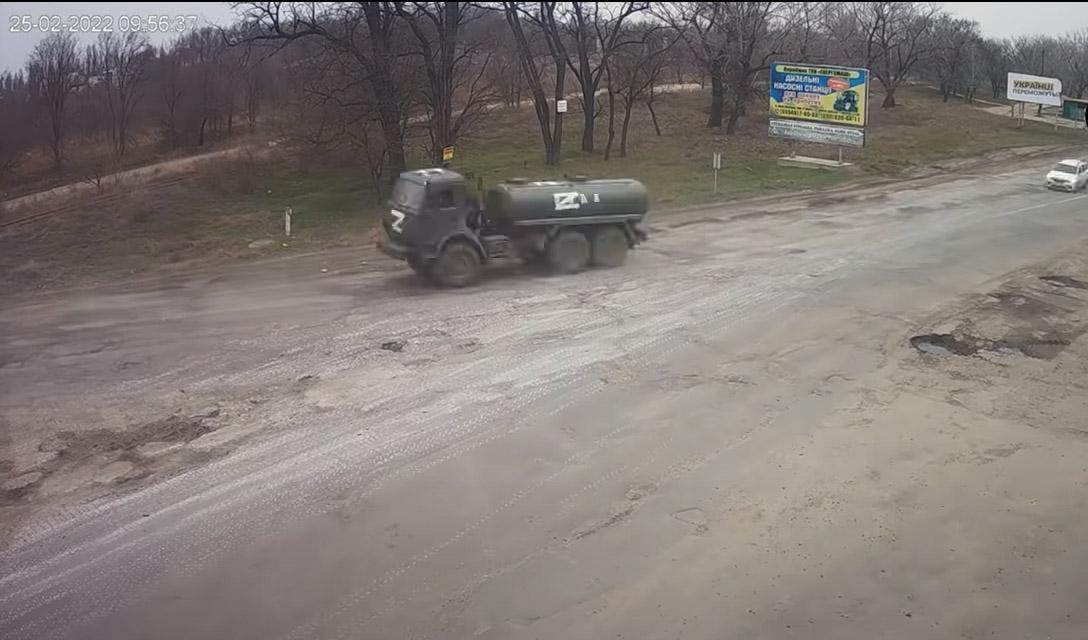car: (1045, 153, 1085, 200)
truck: (351, 163, 660, 279)
